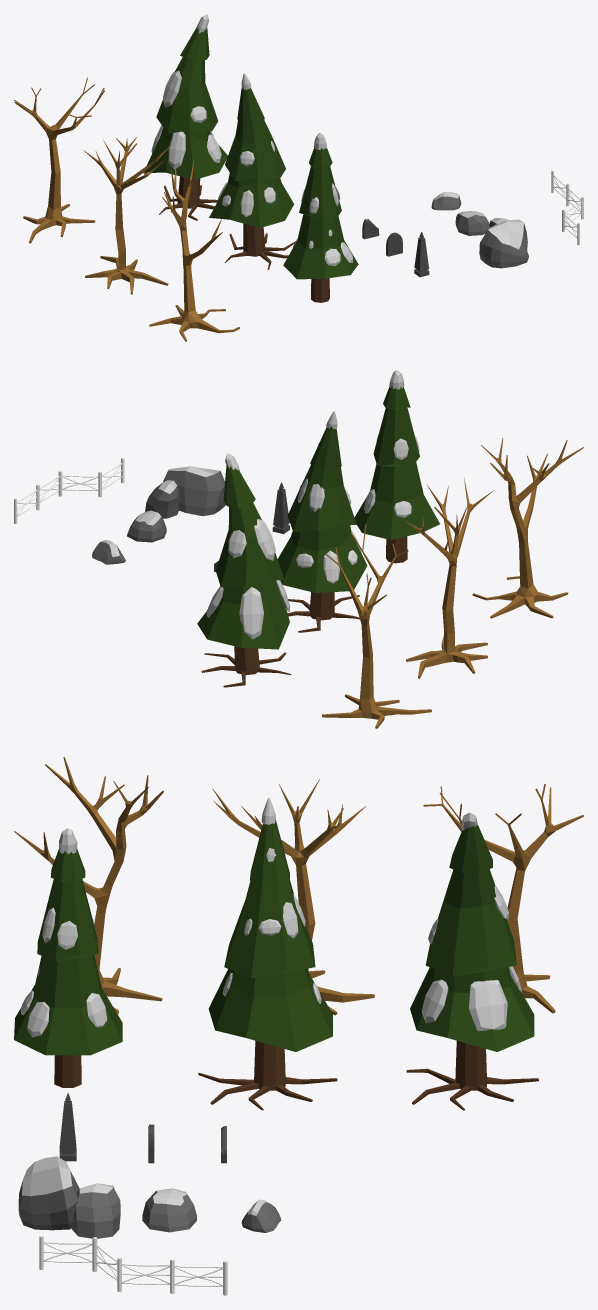
Rendered from environemnt_tiles.glb.
The picture shows the model from 3 angles, top to bottom: view 1: azimuth 30°, elevation 25°; view 2: azimuth 150°, elevation 25°; view 3: azimuth 270°, elevation 25°; orthographic projection. The views are drawn at different scales.
Visible parts, largest first — view 1: Fir_3, Fir_2, Snow_blob_1, Tile, Tile.001, Tile.002, Rock_L, Rock_M, Grave_1, Rock_S; view 2: Fir_3, Fir_2, Snow_blob_1, Tile, Tile.001, Rock_L, Tile.002, Rock_M, Grave_1, Rock_S, fence_2; view 3: Fir_3, Fir_2, Snow_blob_1, Rock_L, Tile, Tile.001, Tile.002, Rock_M, Rock_S, Grave_1, fence_1, fence_4.
Boxes of the visible parts, bbox=[...] form: Fir_3: bbox=[144, 14, 227, 220]; Fir_2: bbox=[209, 73, 295, 269]; Snow_blob_1: bbox=[283, 133, 358, 302]; Tile: bbox=[149, 160, 239, 341]; Tile.001: bbox=[83, 137, 171, 294]; Tile.002: bbox=[14, 77, 104, 243]; Rock_L: bbox=[479, 218, 528, 268]; Rock_M: bbox=[455, 211, 489, 235]; Grave_1: bbox=[414, 232, 429, 277]; Rock_S: bbox=[431, 192, 461, 210]; Fir_3: bbox=[197, 453, 291, 687]; Fir_2: bbox=[277, 411, 367, 632]; Snow_blob_1: bbox=[354, 370, 439, 563]; Tile: bbox=[472, 438, 583, 618]; Tile.001: bbox=[405, 478, 493, 678]; Rock_L: bbox=[145, 466, 225, 518]; Tile.002: bbox=[322, 524, 431, 728]; Rock_M: bbox=[127, 510, 166, 542]; Grave_1: bbox=[272, 482, 289, 534]; Rock_S: bbox=[92, 540, 125, 564]; fence_2: bbox=[59, 470, 101, 496]; Fir_3: bbox=[406, 812, 538, 1110]; Fir_2: bbox=[198, 797, 337, 1110]; Snow_blob_1: bbox=[14, 828, 122, 1087]; Rock_L: bbox=[18, 1156, 120, 1238]; Tile: bbox=[14, 757, 163, 1014]; Tile.001: bbox=[212, 779, 374, 1015]; Tile.002: bbox=[423, 784, 583, 1013]; Rock_M: bbox=[142, 1188, 196, 1232]; Rock_S: bbox=[241, 1199, 281, 1232]; Grave_1: bbox=[59, 1093, 76, 1161]; fence_1: bbox=[170, 1259, 227, 1295]; fence_4: bbox=[39, 1235, 96, 1271].
Size of the model in its own units: 44.47 by 18.03 by 32.12.
